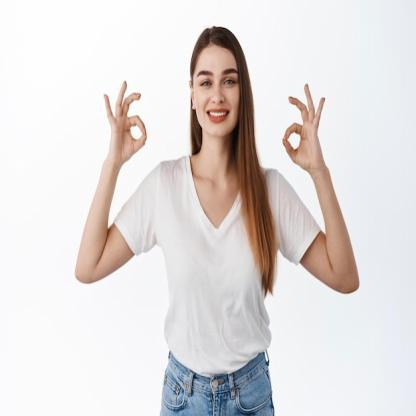ok: (278, 80, 326, 170), (102, 78, 148, 161)
